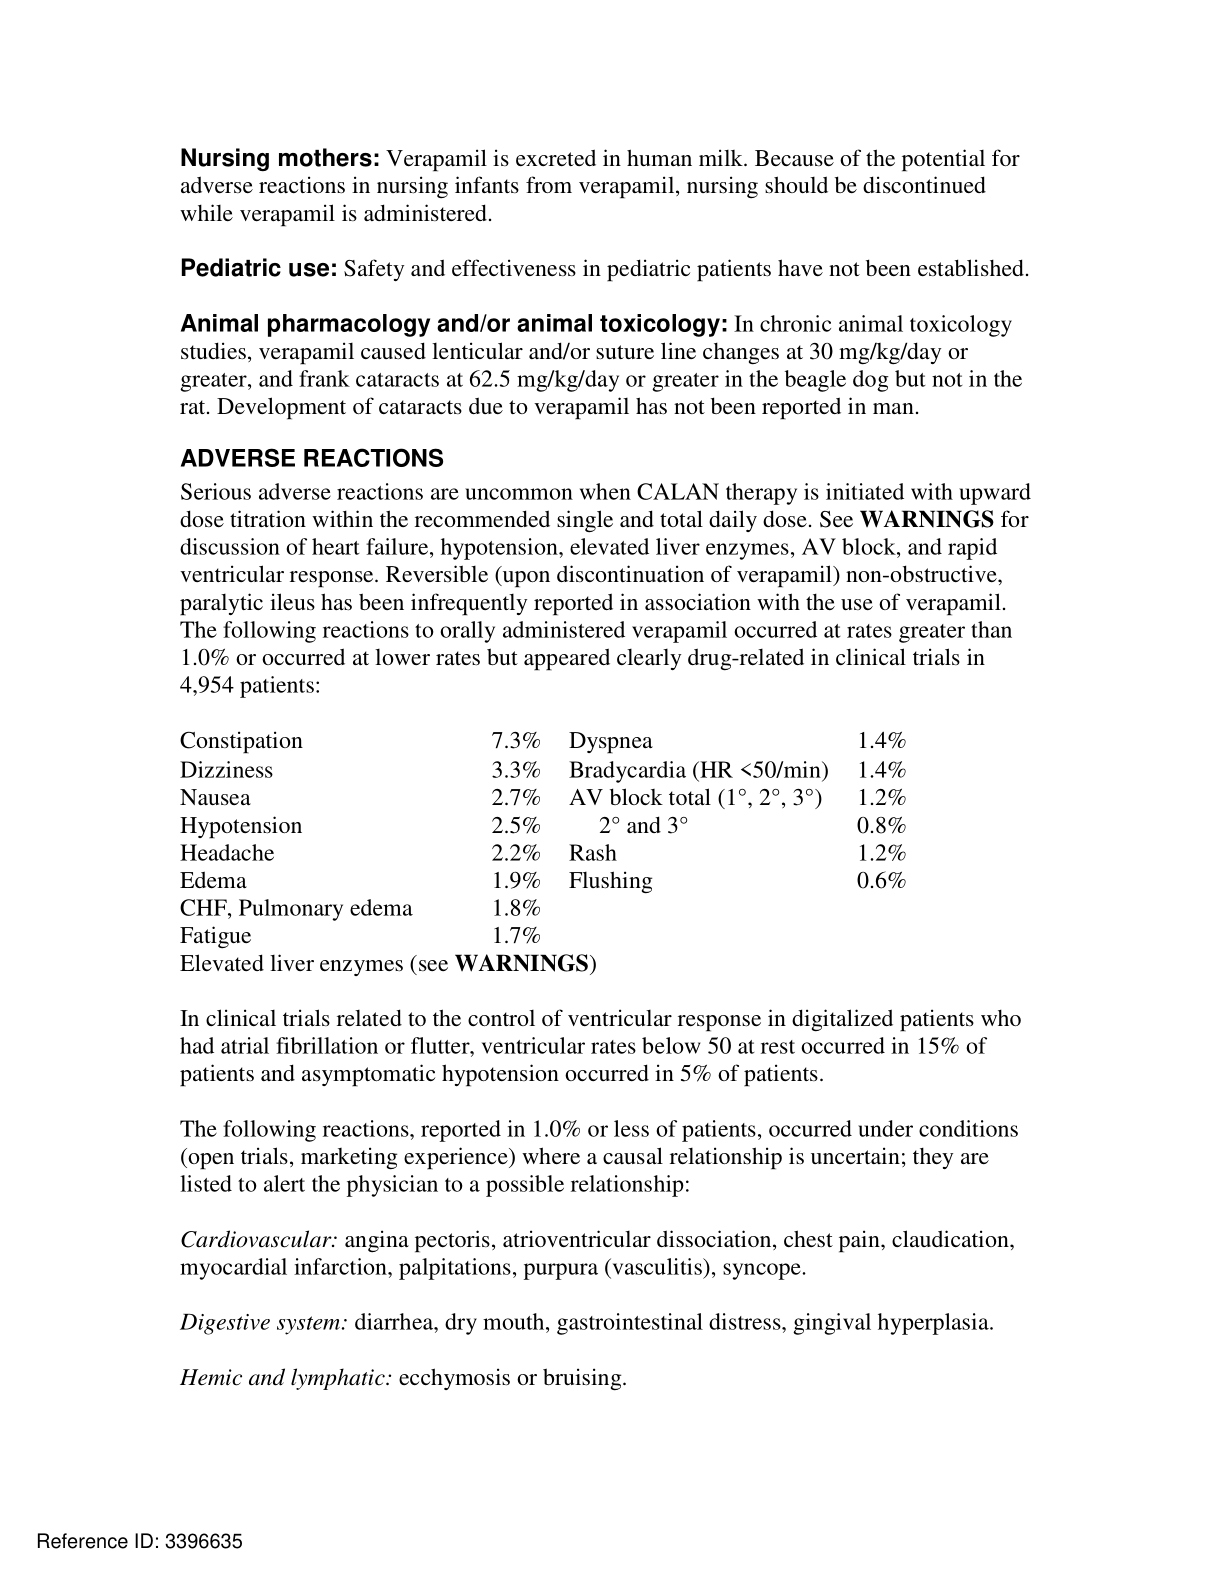nolines: (174, 726, 910, 949)
